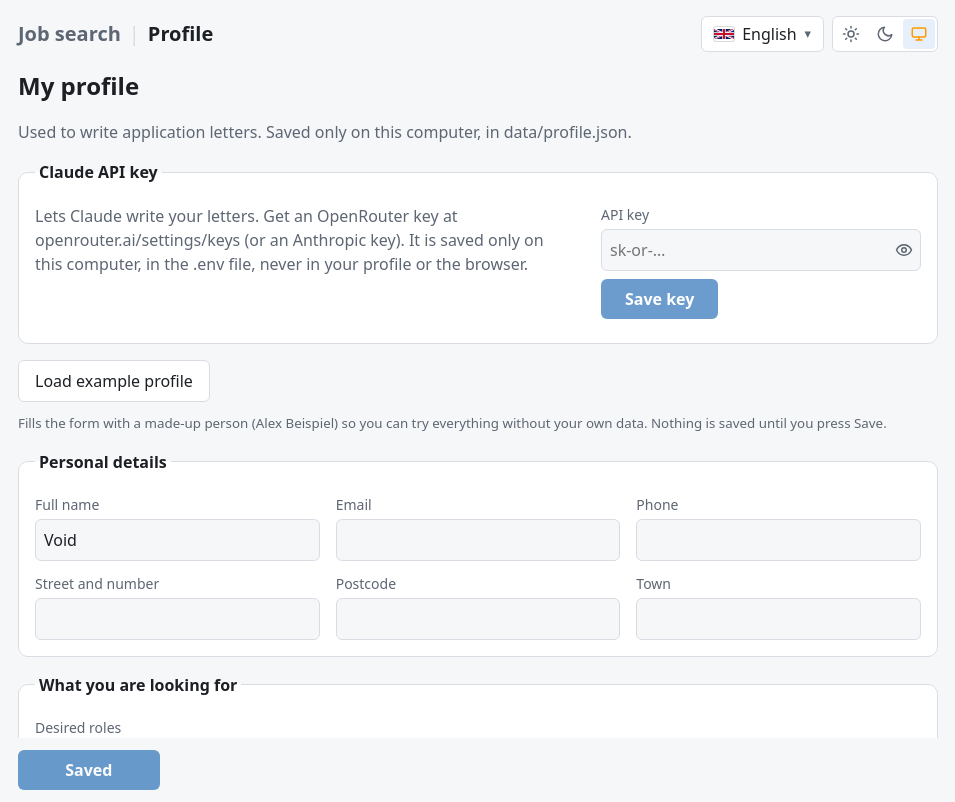
Test case: profile page › shows "Saved" on the button until the form differs from the saved data
Step 1. Type "Hamburg" into the field labelled "Town" → (779, 619), box [636,598,921,640]
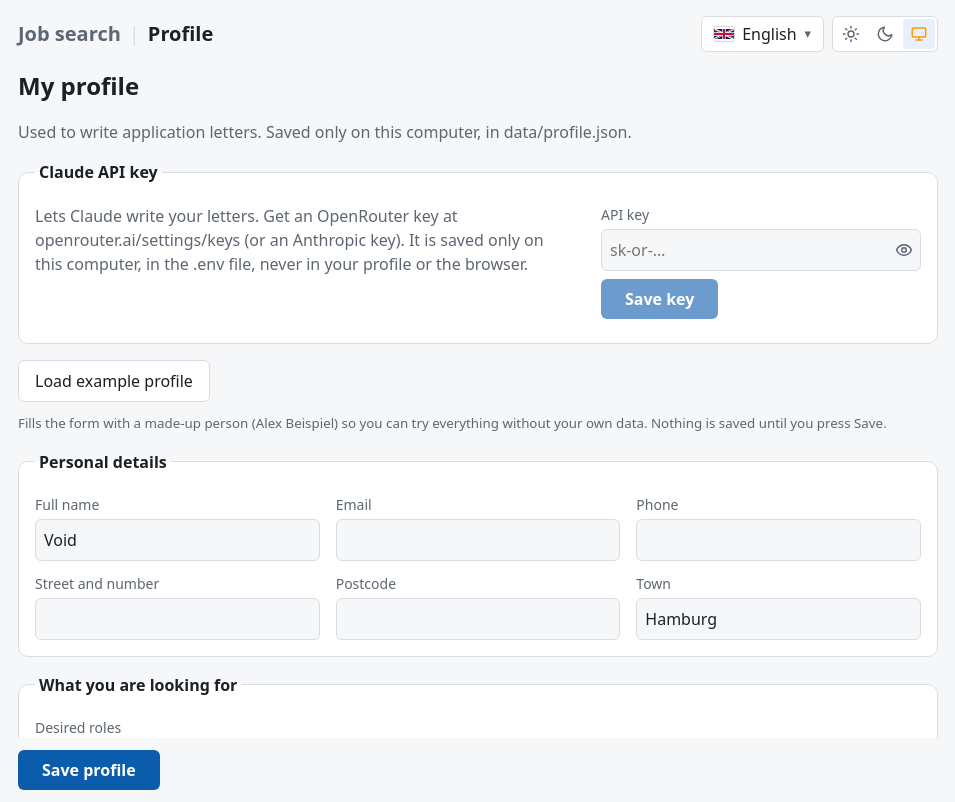
Now the text "Save profile" is shown, box [42,758,136,782]
Step 2. Clear the field labelled "Town" → (779, 619), box [636,598,921,640]
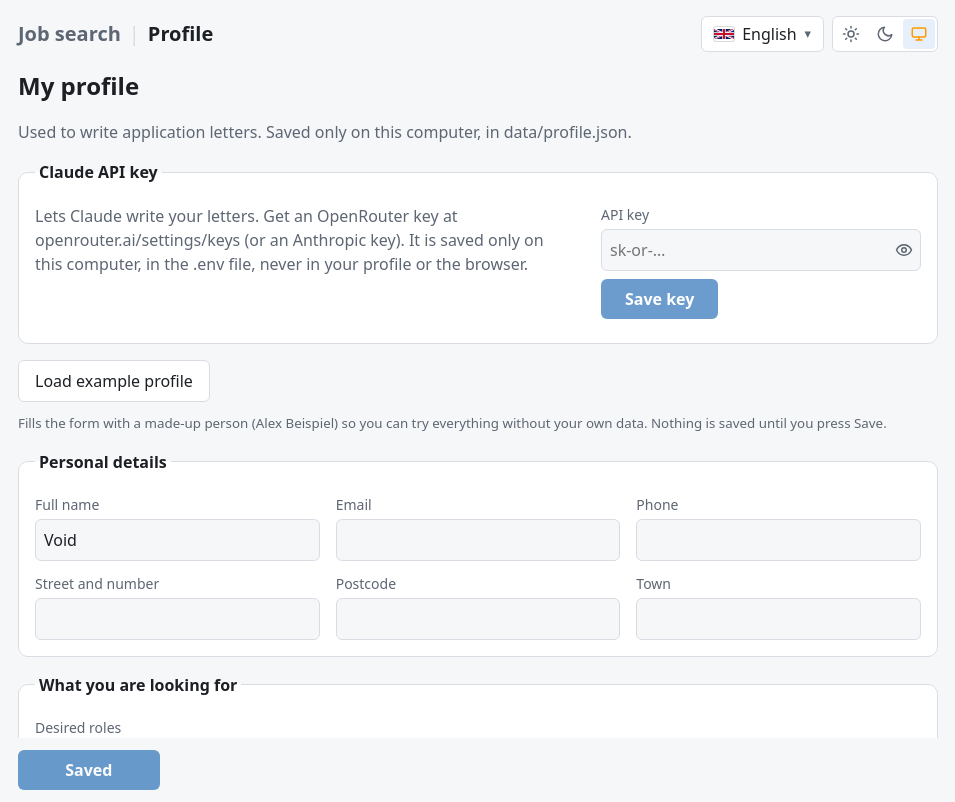
Now the text "Saved" is shown, box [65,759,112,781]
Step 3. Type "Hamburg" into the field labelled "Town" → (779, 619), box [636,598,921,640]
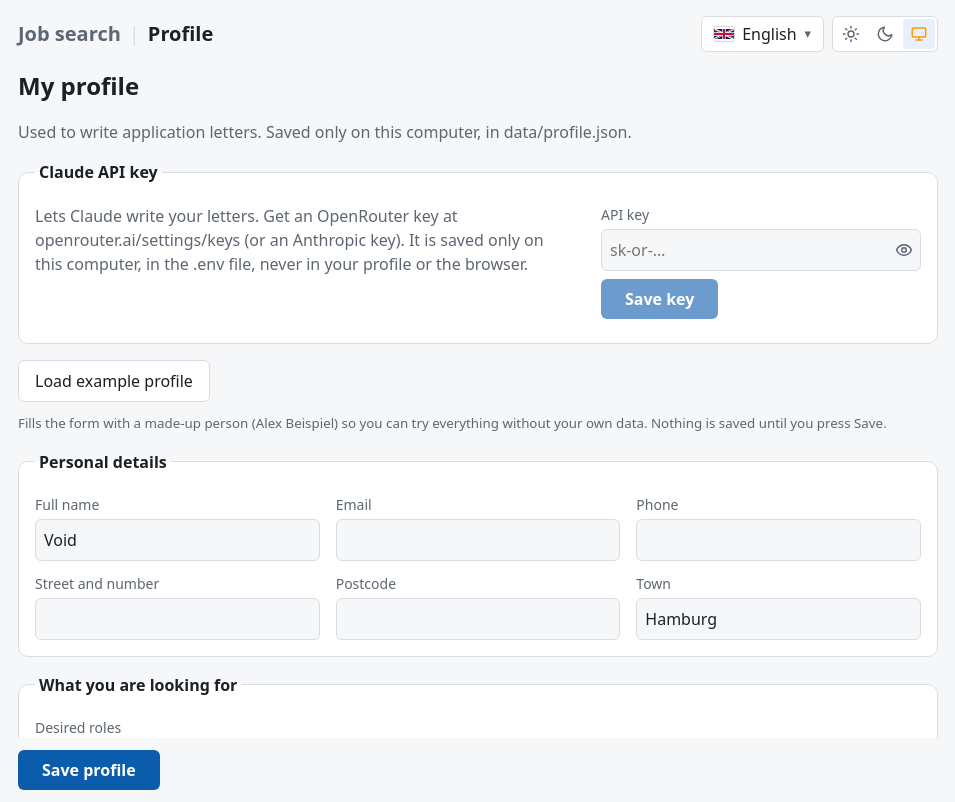
Step 4. Click the button "Save profile" → (89, 770), box [18,750,160,790]
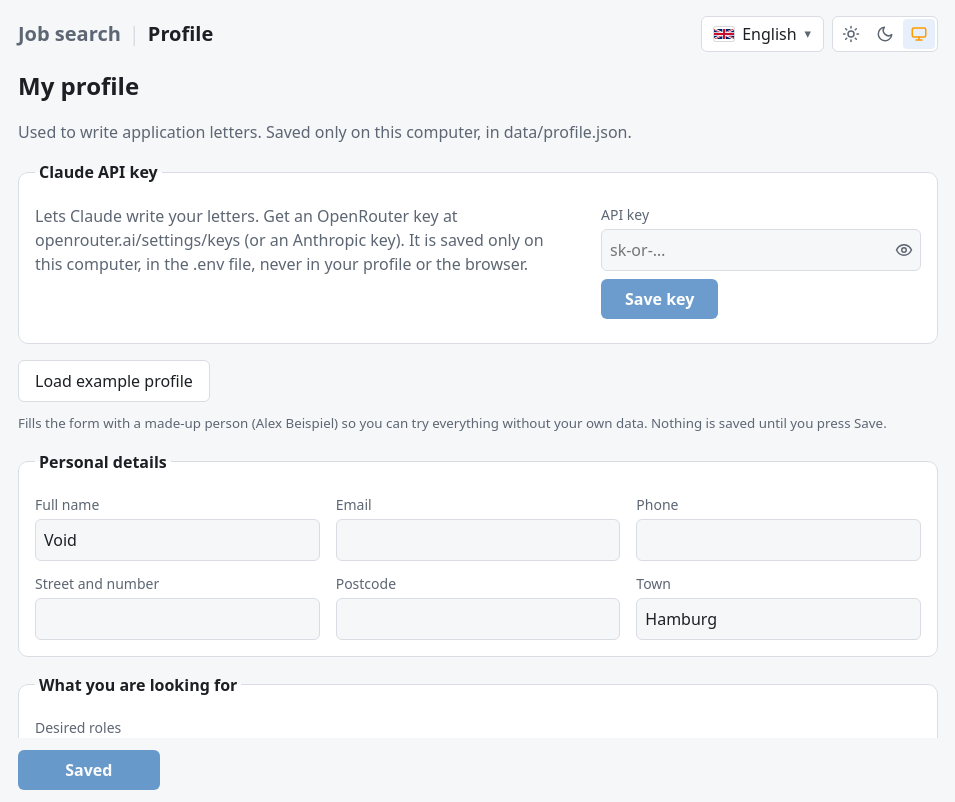
Now the text "Saved" is shown, box [65,759,112,781]
Now the button "Saved" is disabled, box [18,750,160,790]
